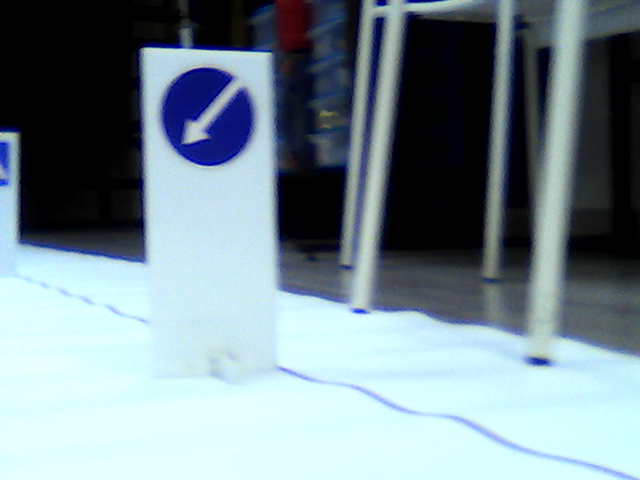prep: (156, 67, 256, 170)
